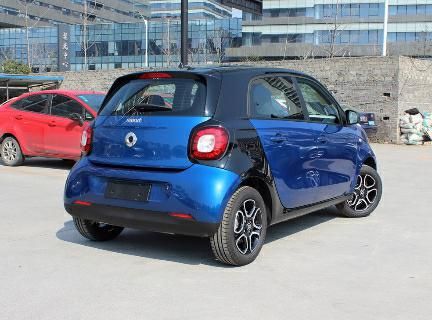smart-forfour: (61, 67, 388, 260)
